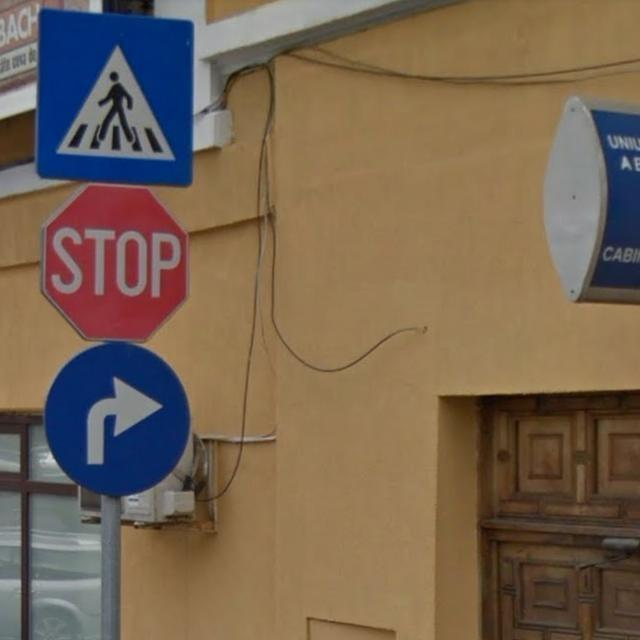info_crosswalk: (35, 5, 194, 188)
prio_stop: (40, 182, 186, 343)
